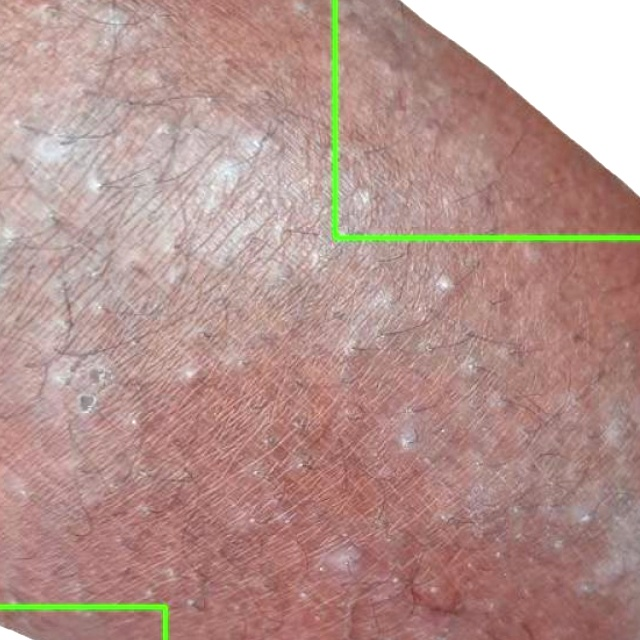Scabies: (335, 0, 639, 237)
